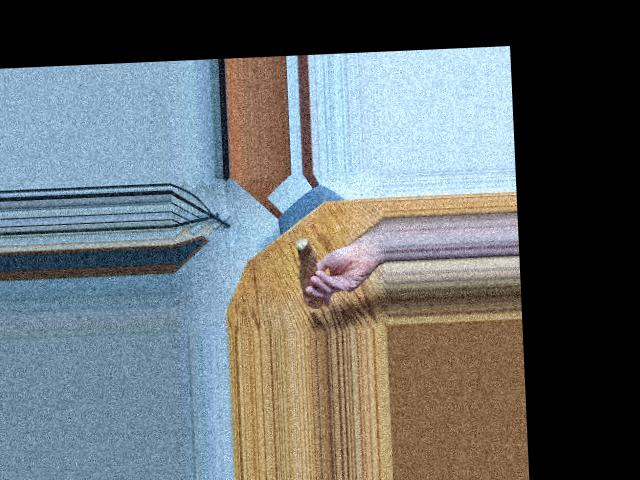sweet_potato: (296, 231, 321, 309)
